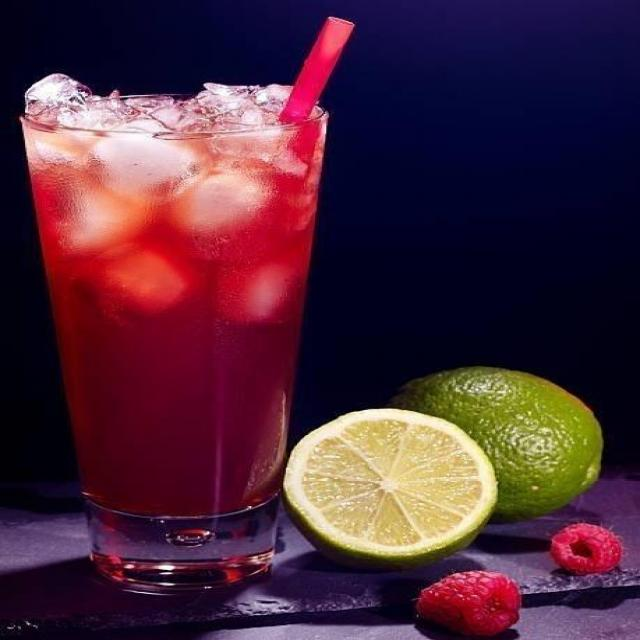glass-normal: (17, 86, 333, 598)
